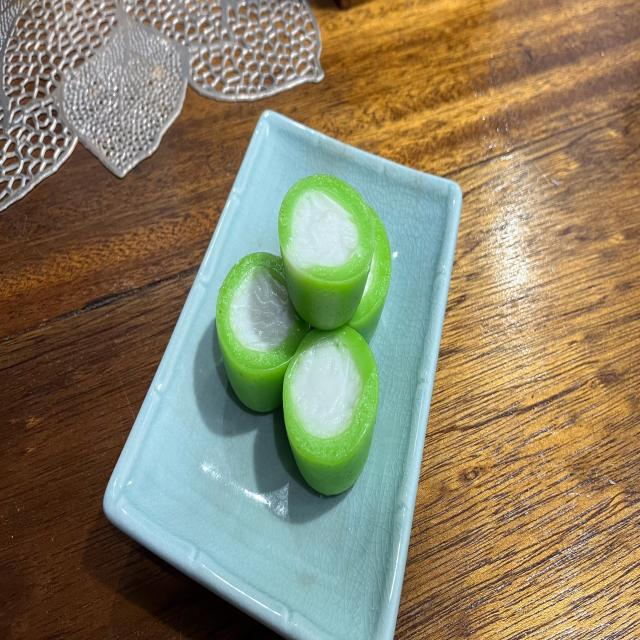nona-manis: (282, 324, 379, 496), (216, 253, 309, 411), (279, 176, 375, 329), (348, 207, 391, 342)
